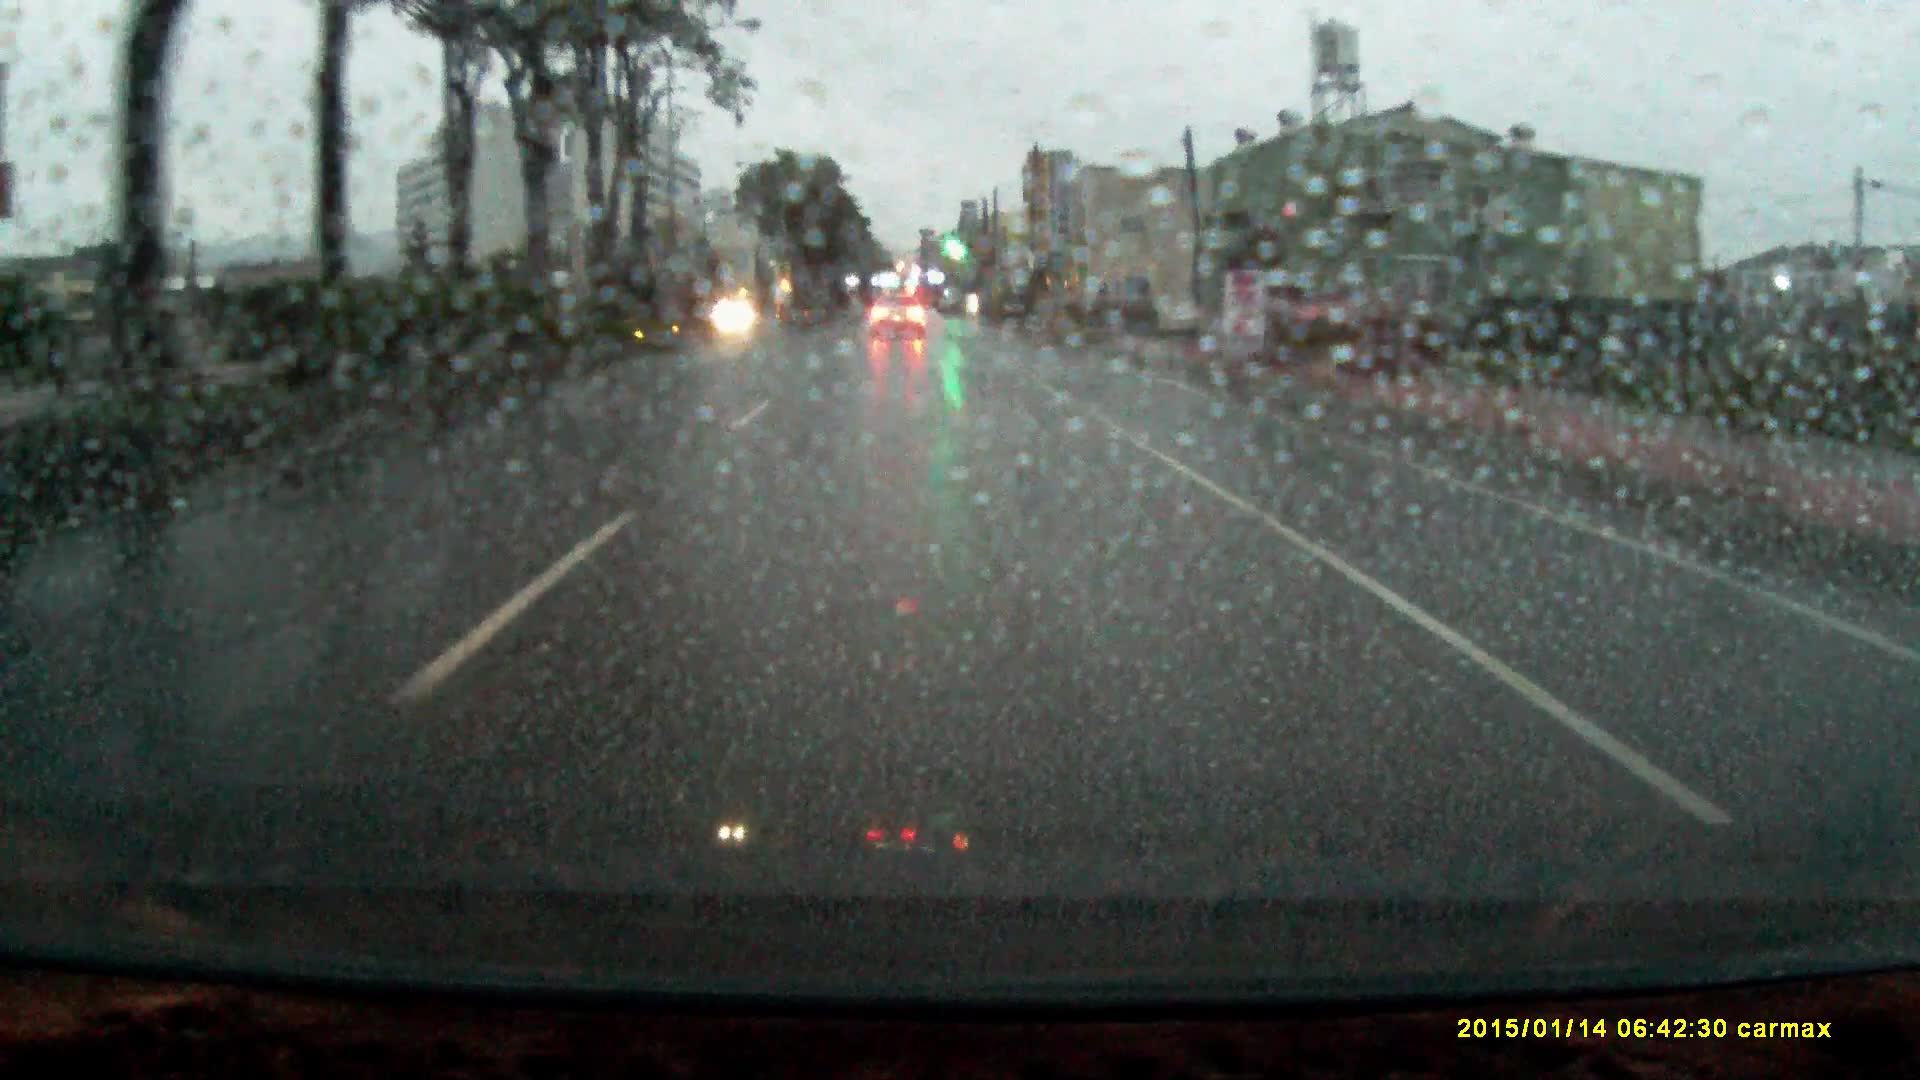vehicle: (870, 297, 926, 340)
